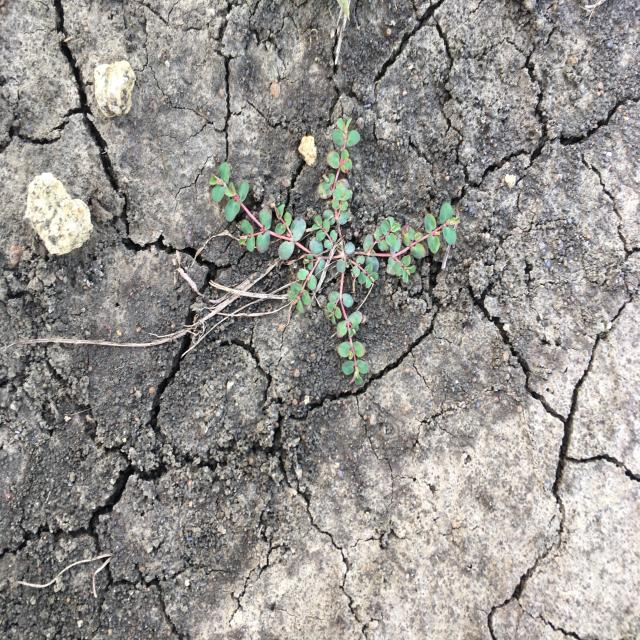SpottedSpurge: (208, 114, 463, 391)
